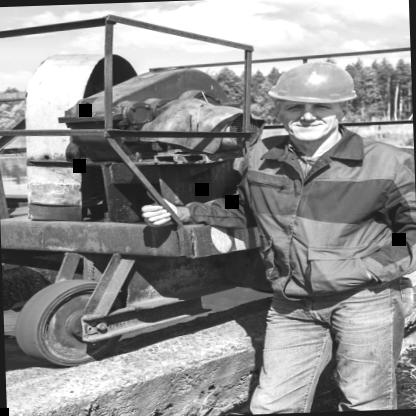helmet: (252, 53, 377, 153)
